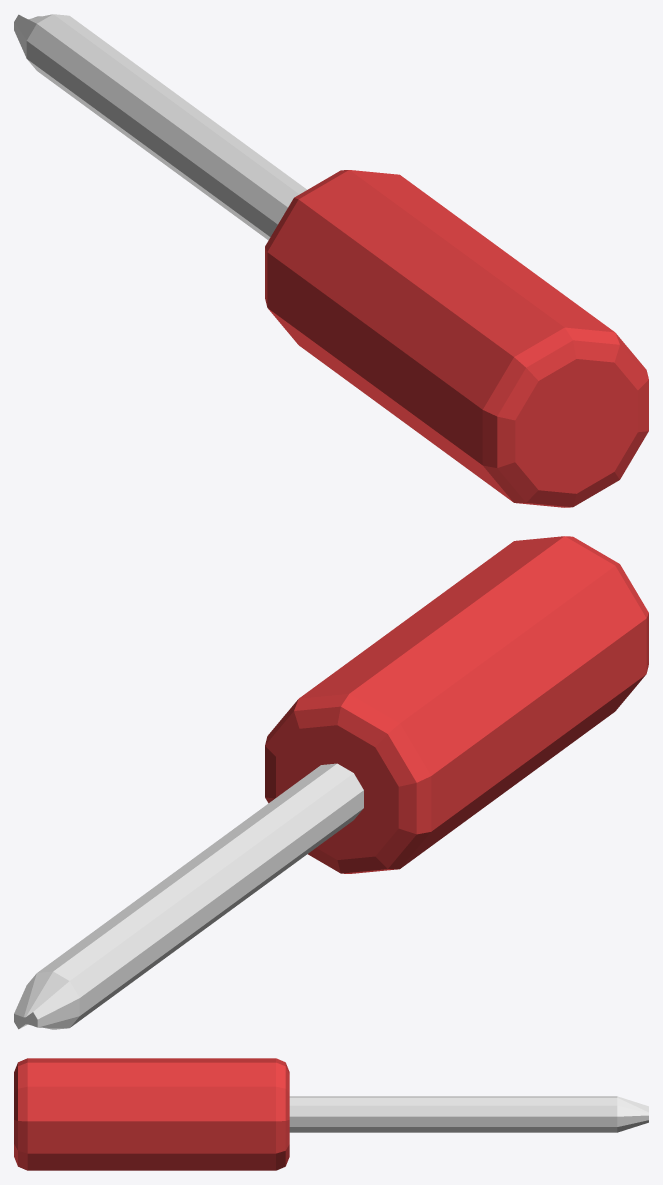
File: Otvertka.fbx
3 renders of one model, top to bottom at view 1: azimuth 30°, elevation 25°; view 2: azimuth 150°, elevation 25°; view 3: azimuth 270°, elevation 25°, orthographic. The views are drawn at different scales.
Parts seen in each view (by area): view 1: Cylinder.002; view 2: Cylinder.002; view 3: Cylinder.002.
Boxes of the visible parts, box(x1,y1,x2,y2) form: Cylinder.002: box(14, 14, 648, 507); Cylinder.002: box(14, 536, 648, 1029); Cylinder.002: box(14, 1058, 648, 1170).
Size of the model in its own units: 22.63 by 23.79 by 132.
